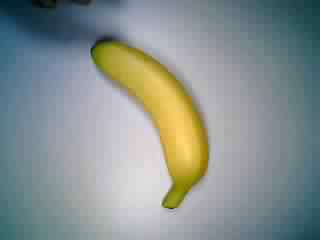banana: (87, 30, 217, 212)
